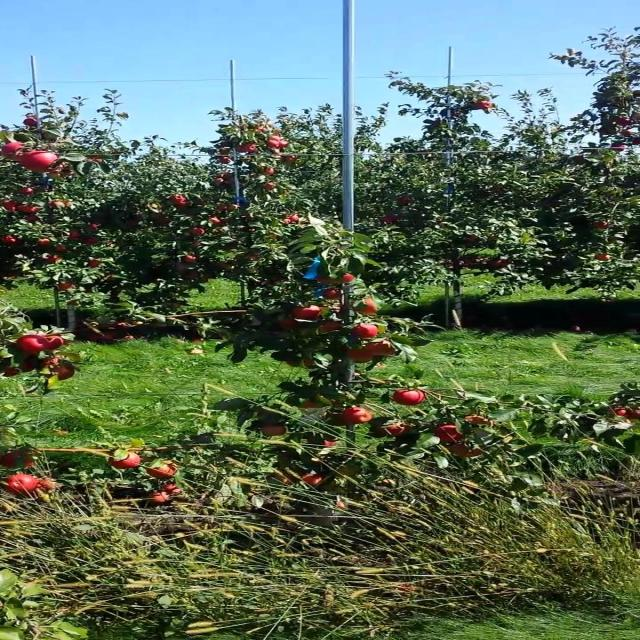apple: (20, 152, 59, 172), (433, 424, 462, 444), (6, 476, 36, 495), (340, 408, 375, 424), (20, 336, 48, 356), (390, 392, 427, 407), (113, 452, 142, 470), (6, 452, 36, 469), (148, 464, 178, 480), (369, 340, 398, 356), (348, 348, 377, 364), (454, 444, 484, 459), (291, 308, 322, 321), (355, 300, 379, 316), (355, 324, 379, 340), (6, 144, 27, 161), (49, 368, 78, 380), (269, 472, 295, 485), (262, 424, 288, 436), (468, 416, 494, 427), (49, 336, 68, 351), (305, 476, 327, 488), (390, 424, 412, 436), (305, 396, 327, 408), (42, 356, 64, 368), (163, 484, 185, 496), (319, 276, 348, 285), (276, 320, 299, 331), (20, 360, 37, 372), (42, 480, 59, 492), (319, 324, 341, 333), (319, 276, 340, 285), (326, 288, 341, 300), (291, 360, 313, 368), (611, 408, 628, 416), (6, 368, 21, 377), (340, 276, 356, 284), (326, 440, 340, 448), (305, 360, 316, 368)
